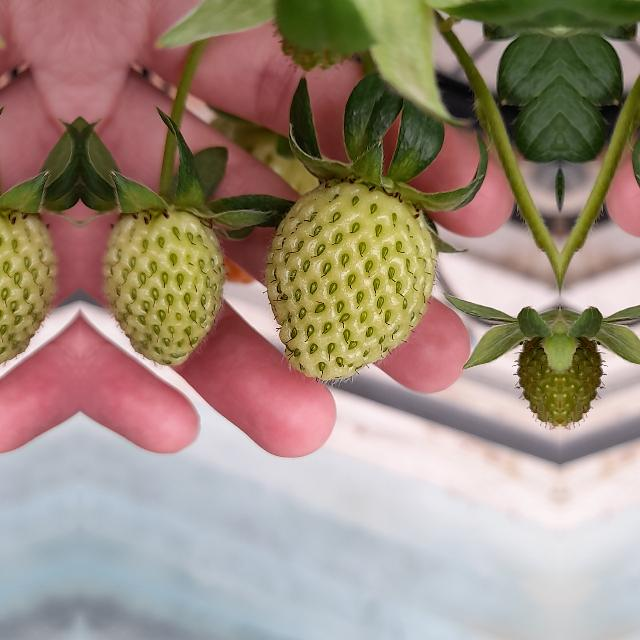Health_25: (264, 178, 436, 380), (102, 210, 225, 368), (0, 209, 58, 368)
